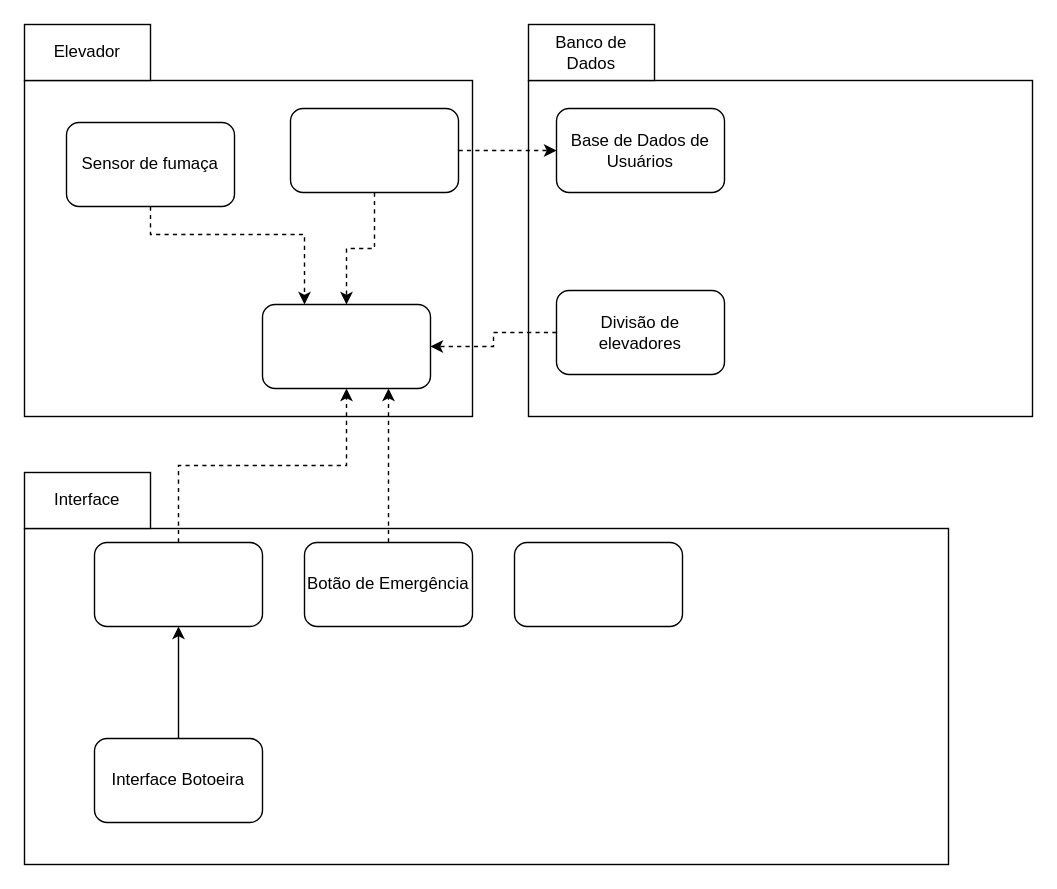
Image size: 1057x889. Some labels were removed from this diagram. Here are the shapes that lost their labels. From the top down, the centre of each, then its label:
At [373,149]: "Reconhecimento Facial".
At [345,345]: "Movimentação do Elevador".
At [177,583]: "Insere andar desejado".
At [597,583]: "Mostrar andar atual".
